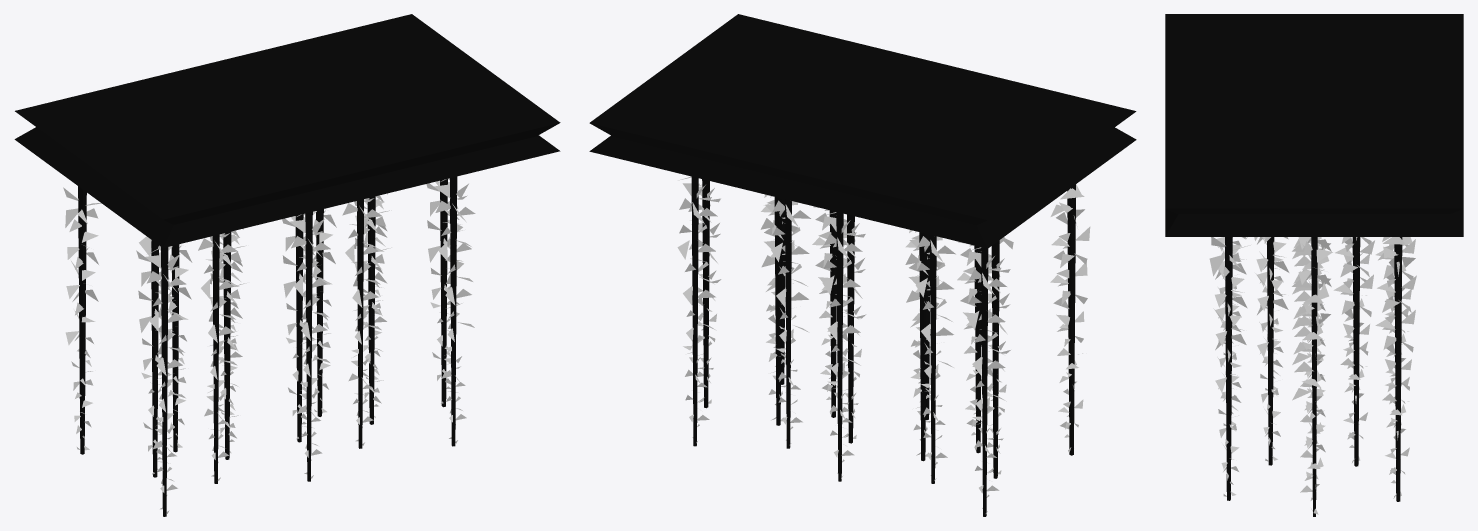
File: RainLight_On.glb
3 renders of one model, left to right at view 1: azimuth 30°, elevation 25°; view 2: azimuth 150°, elevation 25°; view 3: azimuth 270°, elevation 25°, orthographic.
Visible parts, largest first — view 1: rainLight; view 2: rainLight; view 3: rainLight.
Boxes of the visible parts, x1,y1,x2,y2 form: rainLight: (14, 14, 560, 516); rainLight: (589, 14, 1136, 516); rainLight: (1165, 14, 1463, 516).
Bounding box in the file's own units: 1.5 × 1.18 × 0.9737.
1 material, 1 textured.
